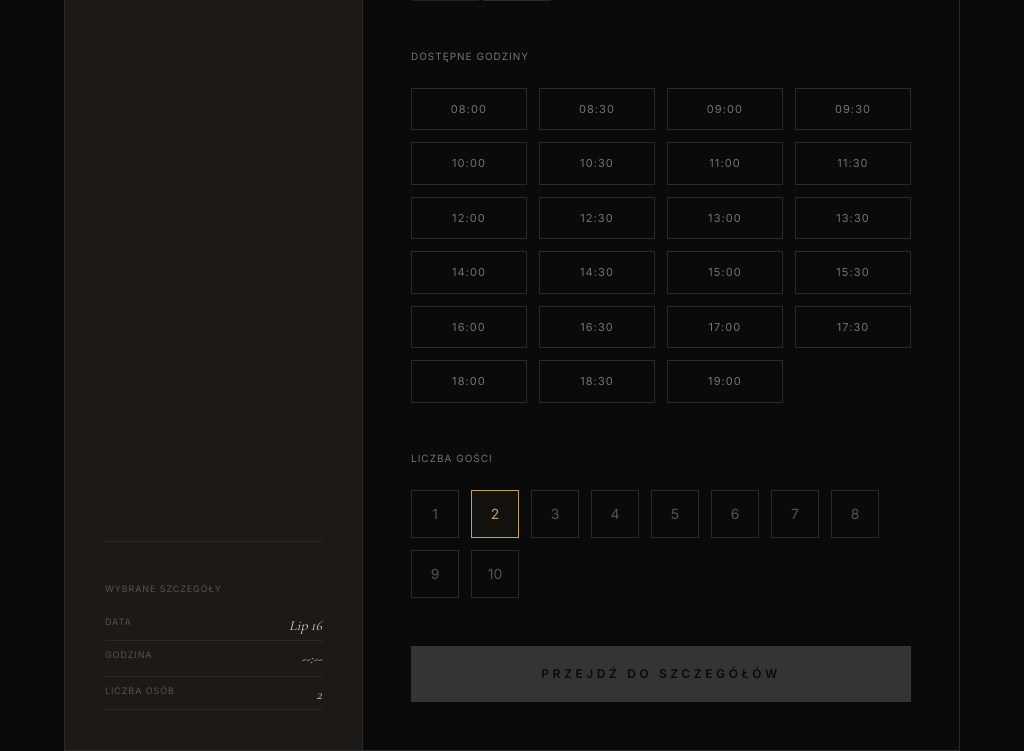
Test: ReservationForm Booking Flow › submits the booking to POST /api/reservations and shows confirmation
(page scrolled)
Click the button "19:00": (725, 381) [667,360,783,402]
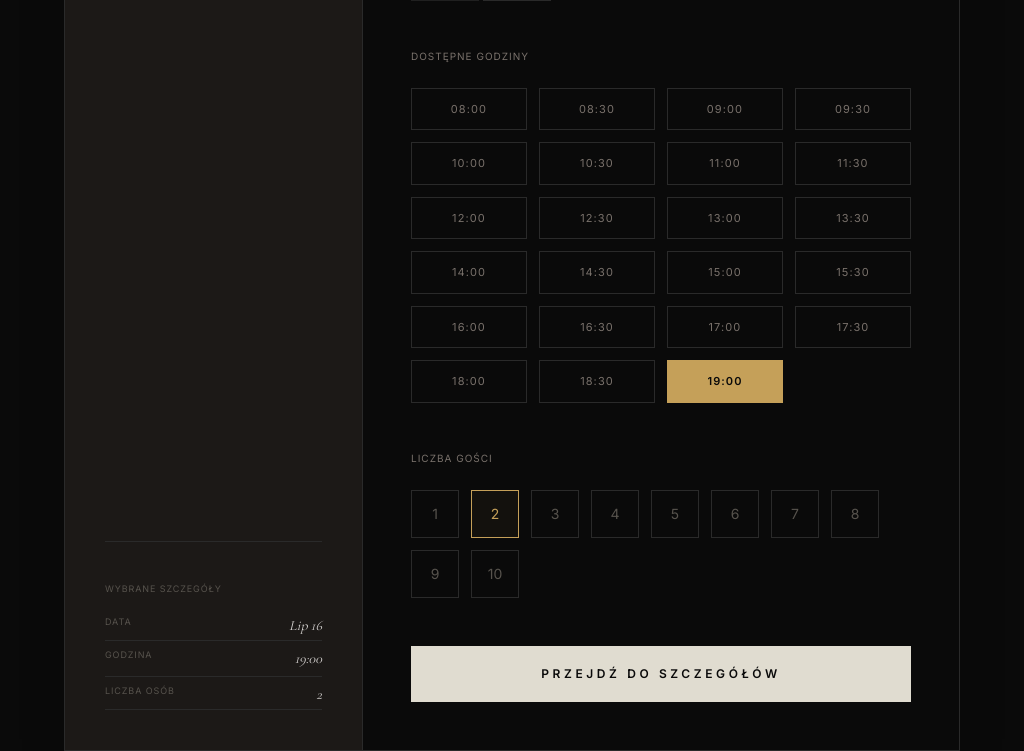
Click the button "Przejdź do Szczegółów": (661, 674) [411,646,911,702]
(page scrolled)
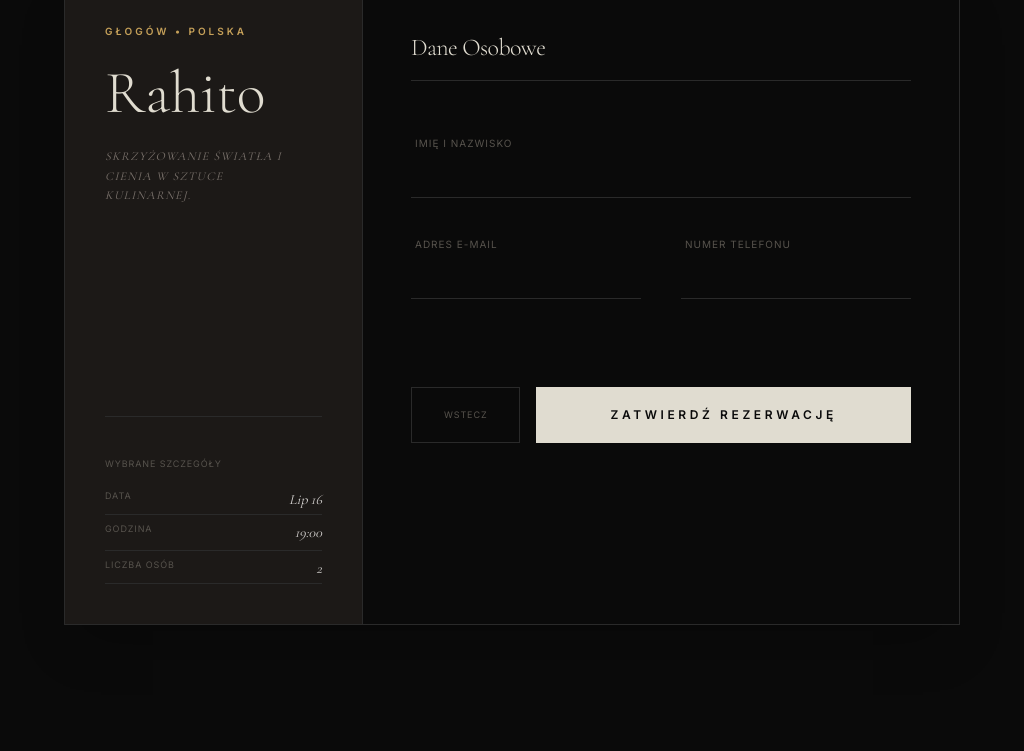
In the field below "Imię i Nazwisko": (661, 176) [411,153,911,198], type "Juan Pérez"
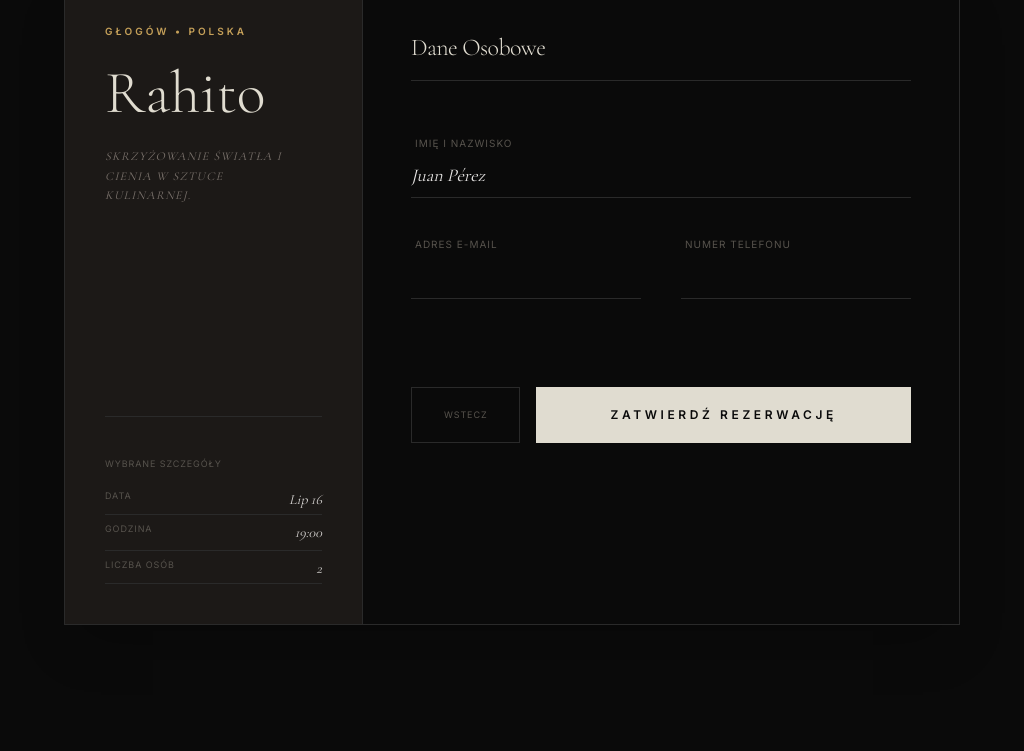
In the field below "Adres E-mail": (526, 276) [411,254,641,299], type "juan@example.com"
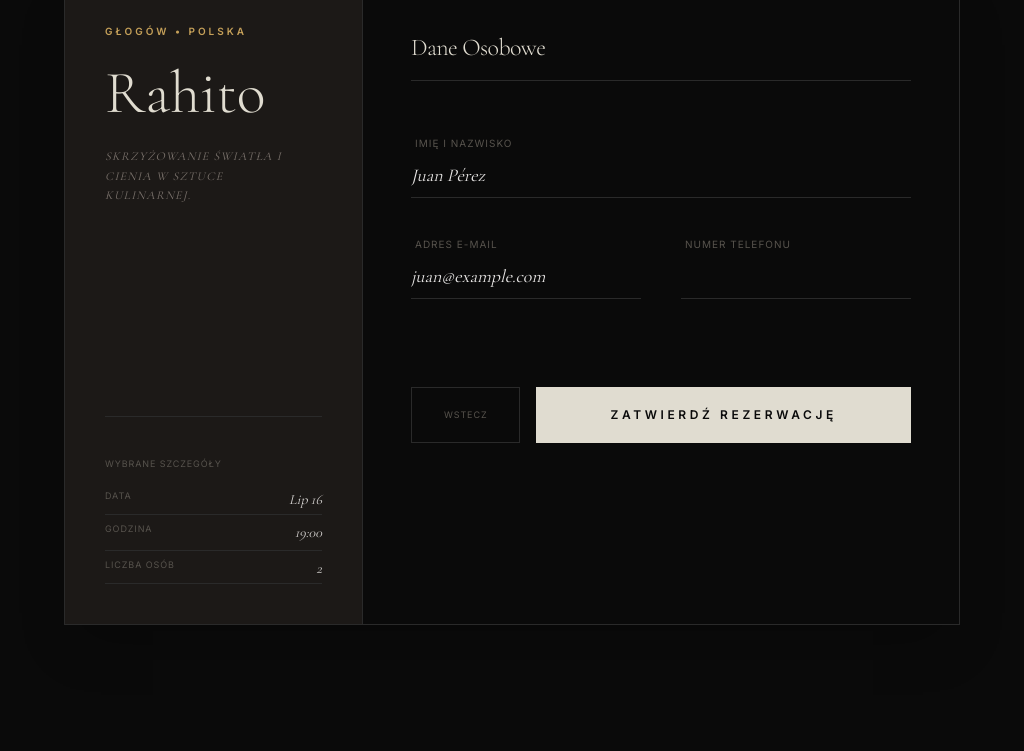
In the field below "Numer Telefonu": (796, 276) [681,254,911,299], type "123456789"
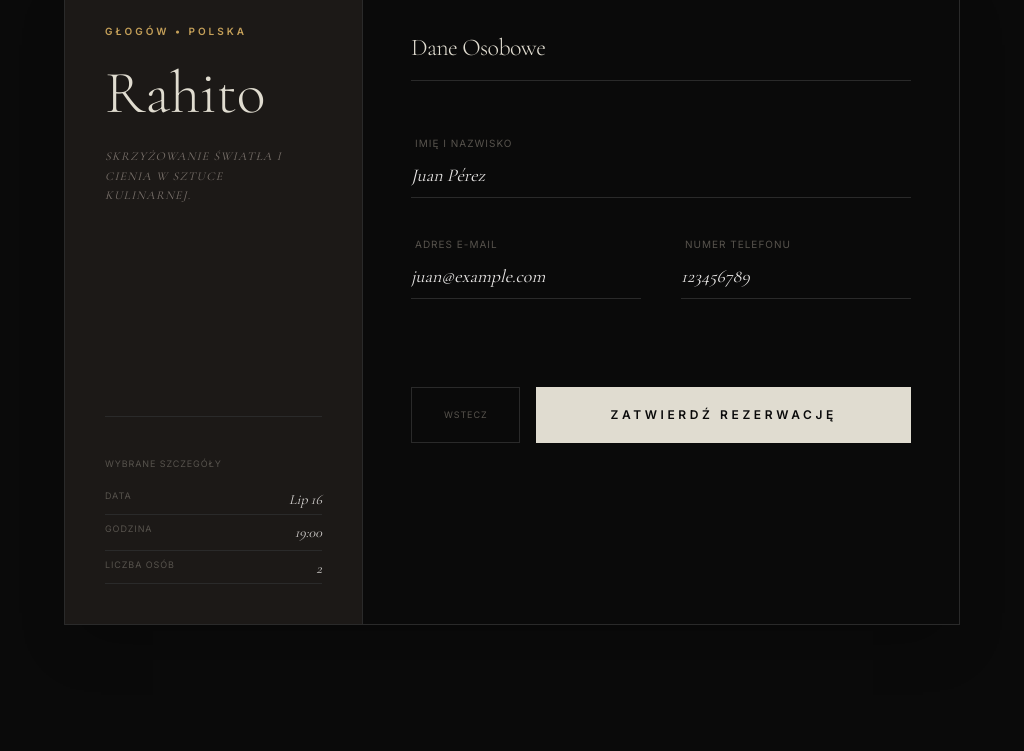
Click the button "Zatwierdź Rezerwację": (724, 415) [536,387,911,443]
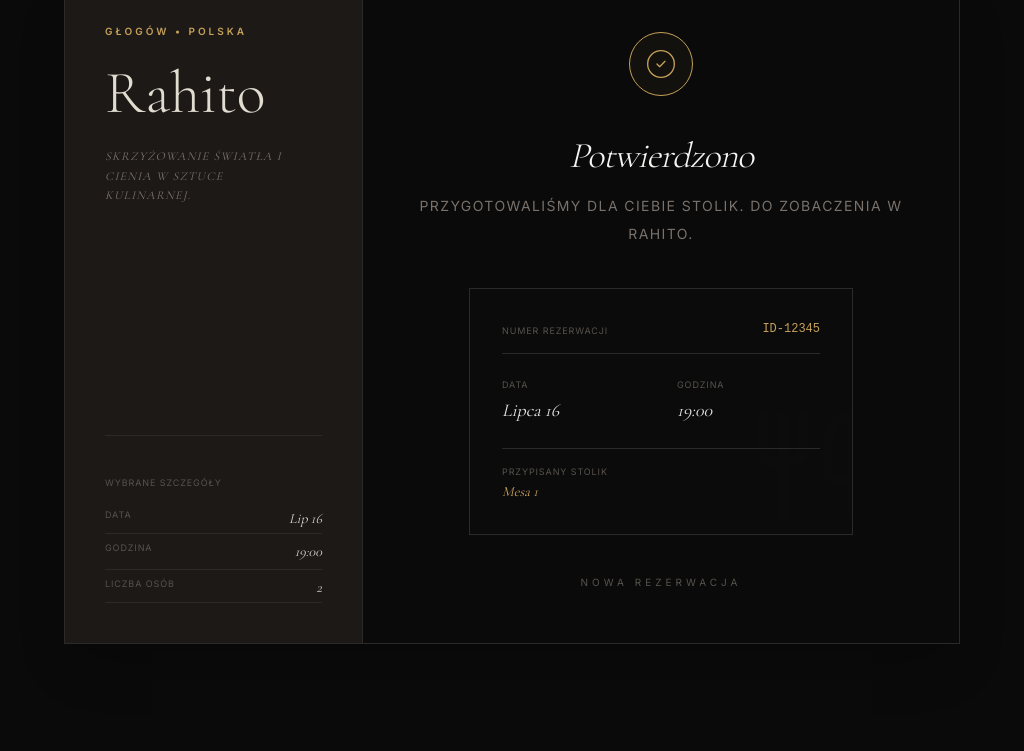
Result: the text "id-12345" is shown at [762,321,820,337]
